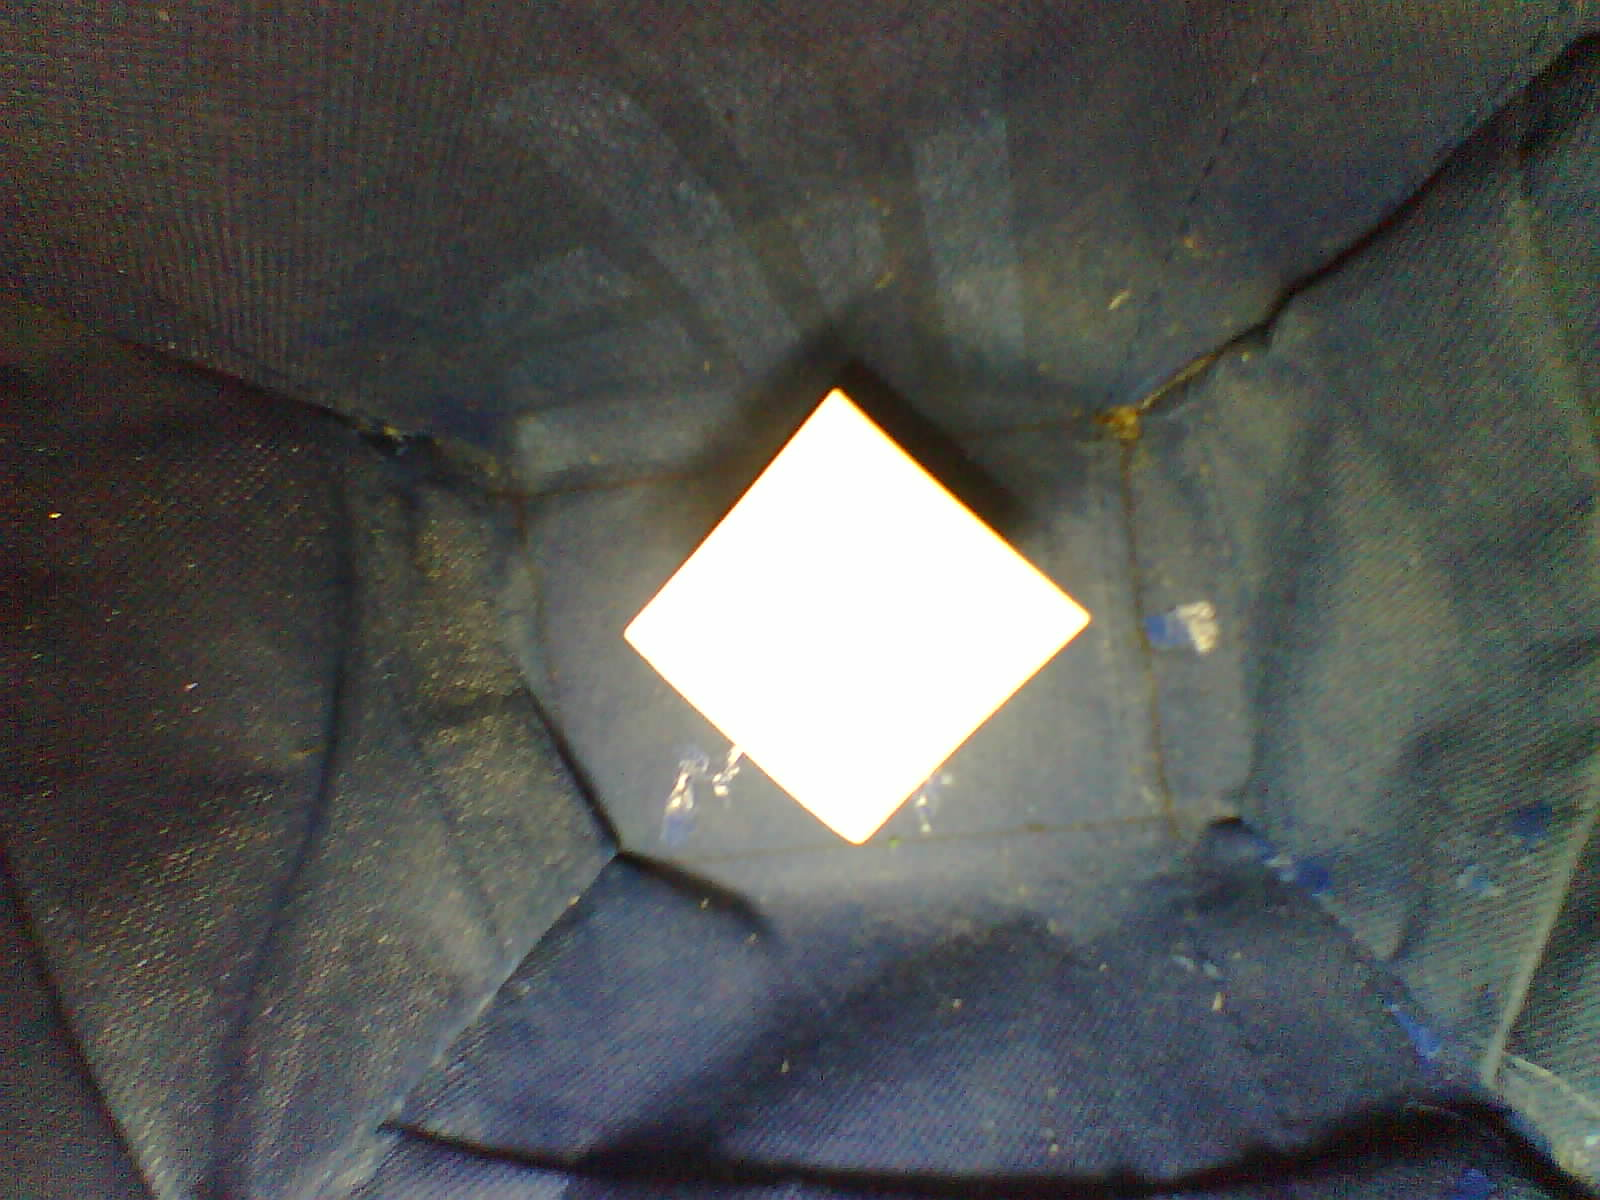cube-hard: (585, 364, 1115, 870)
